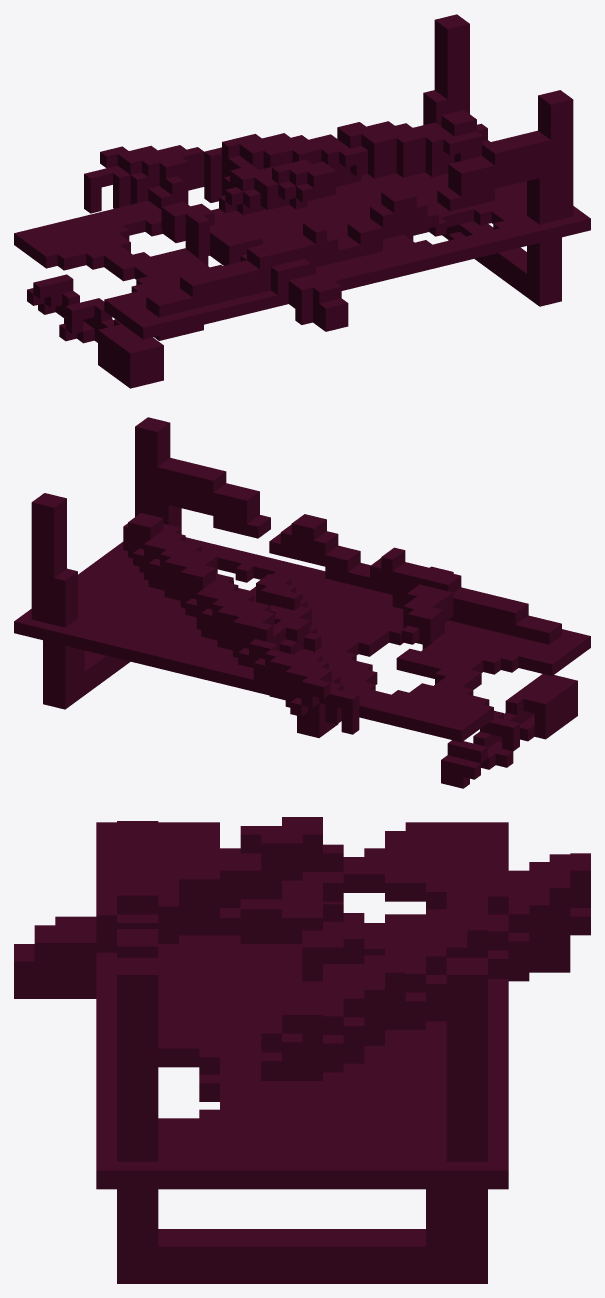
The model's file is table rusheny.obj.
The picture shows the model from 3 angles, top to bottom: view 1: azimuth 30°, elevation 25°; view 2: azimuth 150°, elevation 25°; view 3: azimuth 270°, elevation 25°; orthographic projection. The views are drawn at different scales.
Bounding box in the file's own units: 40 × 17 × 28.
1 material, 1 textured.
